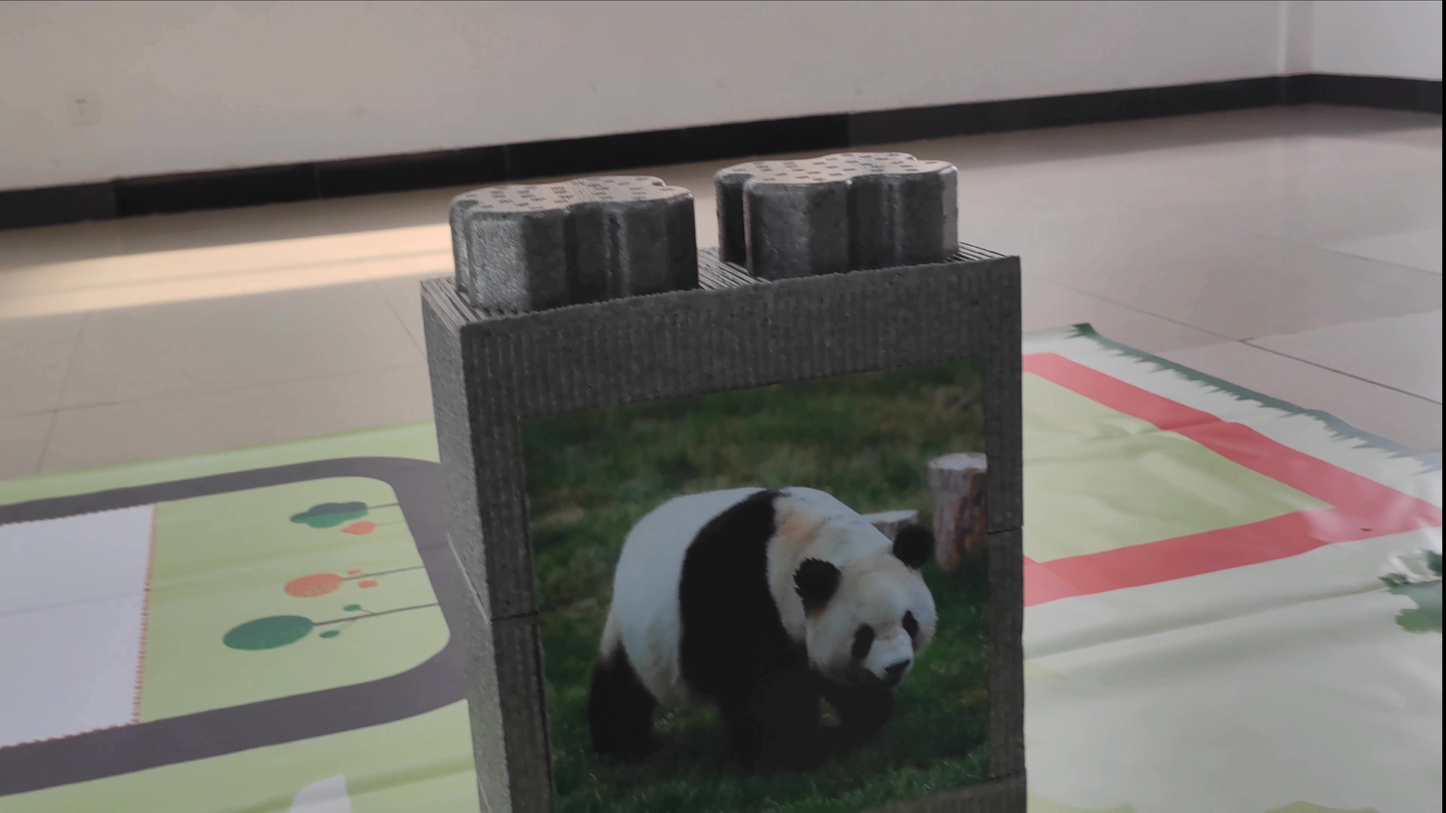panda: (598, 458, 947, 791)
